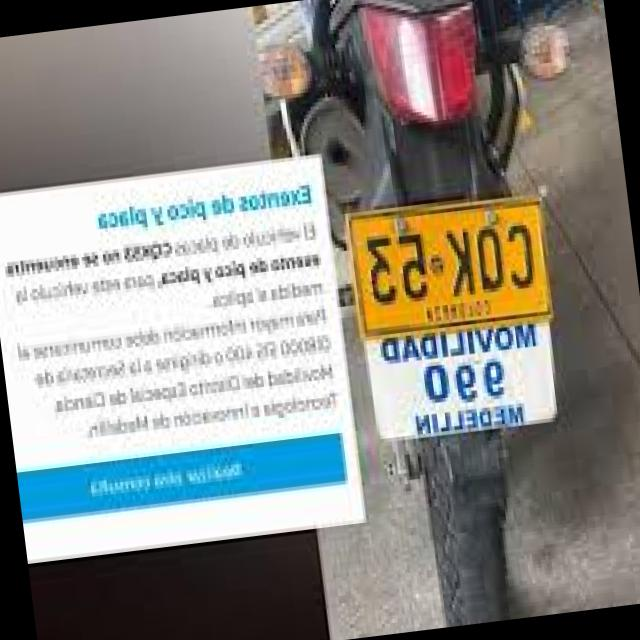number plate: (342, 195, 554, 337)
